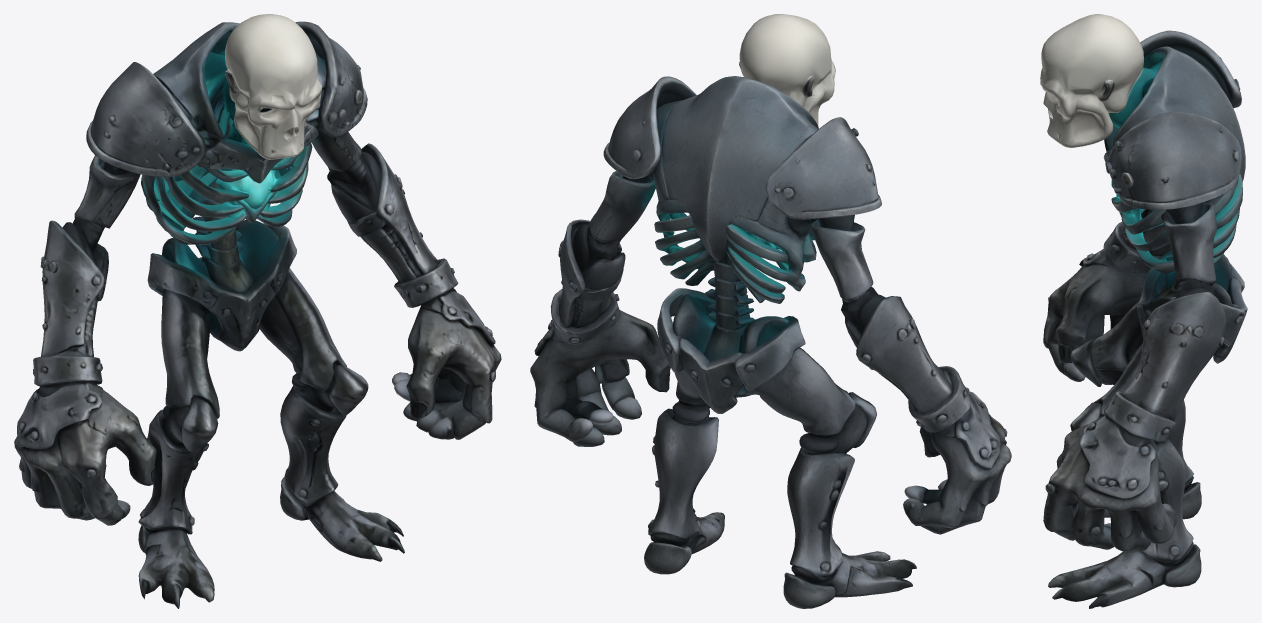
Rendered from boss_mourning_bell.glb.
3 views of the same model, side by side, from view 1: azimuth 30°, elevation 25°; view 2: azimuth 150°, elevation 25°; view 3: azimuth 270°, elevation 25° (orthographic). The views are drawn at different scales.
Parts seen in each view (by area): view 1: model; view 2: model; view 3: model.
Part boxes in pixels (x1=…): model: x1=14, y1=14, x2=501, y2=608; model: x1=530, y1=14, x2=1011, y2=608; model: x1=1040, y1=14, x2=1247, y2=608.
Bounding box in the file's own units: 1.67 × 1.89 × 0.6712.
Materials: 1 (1 with a texture image).
